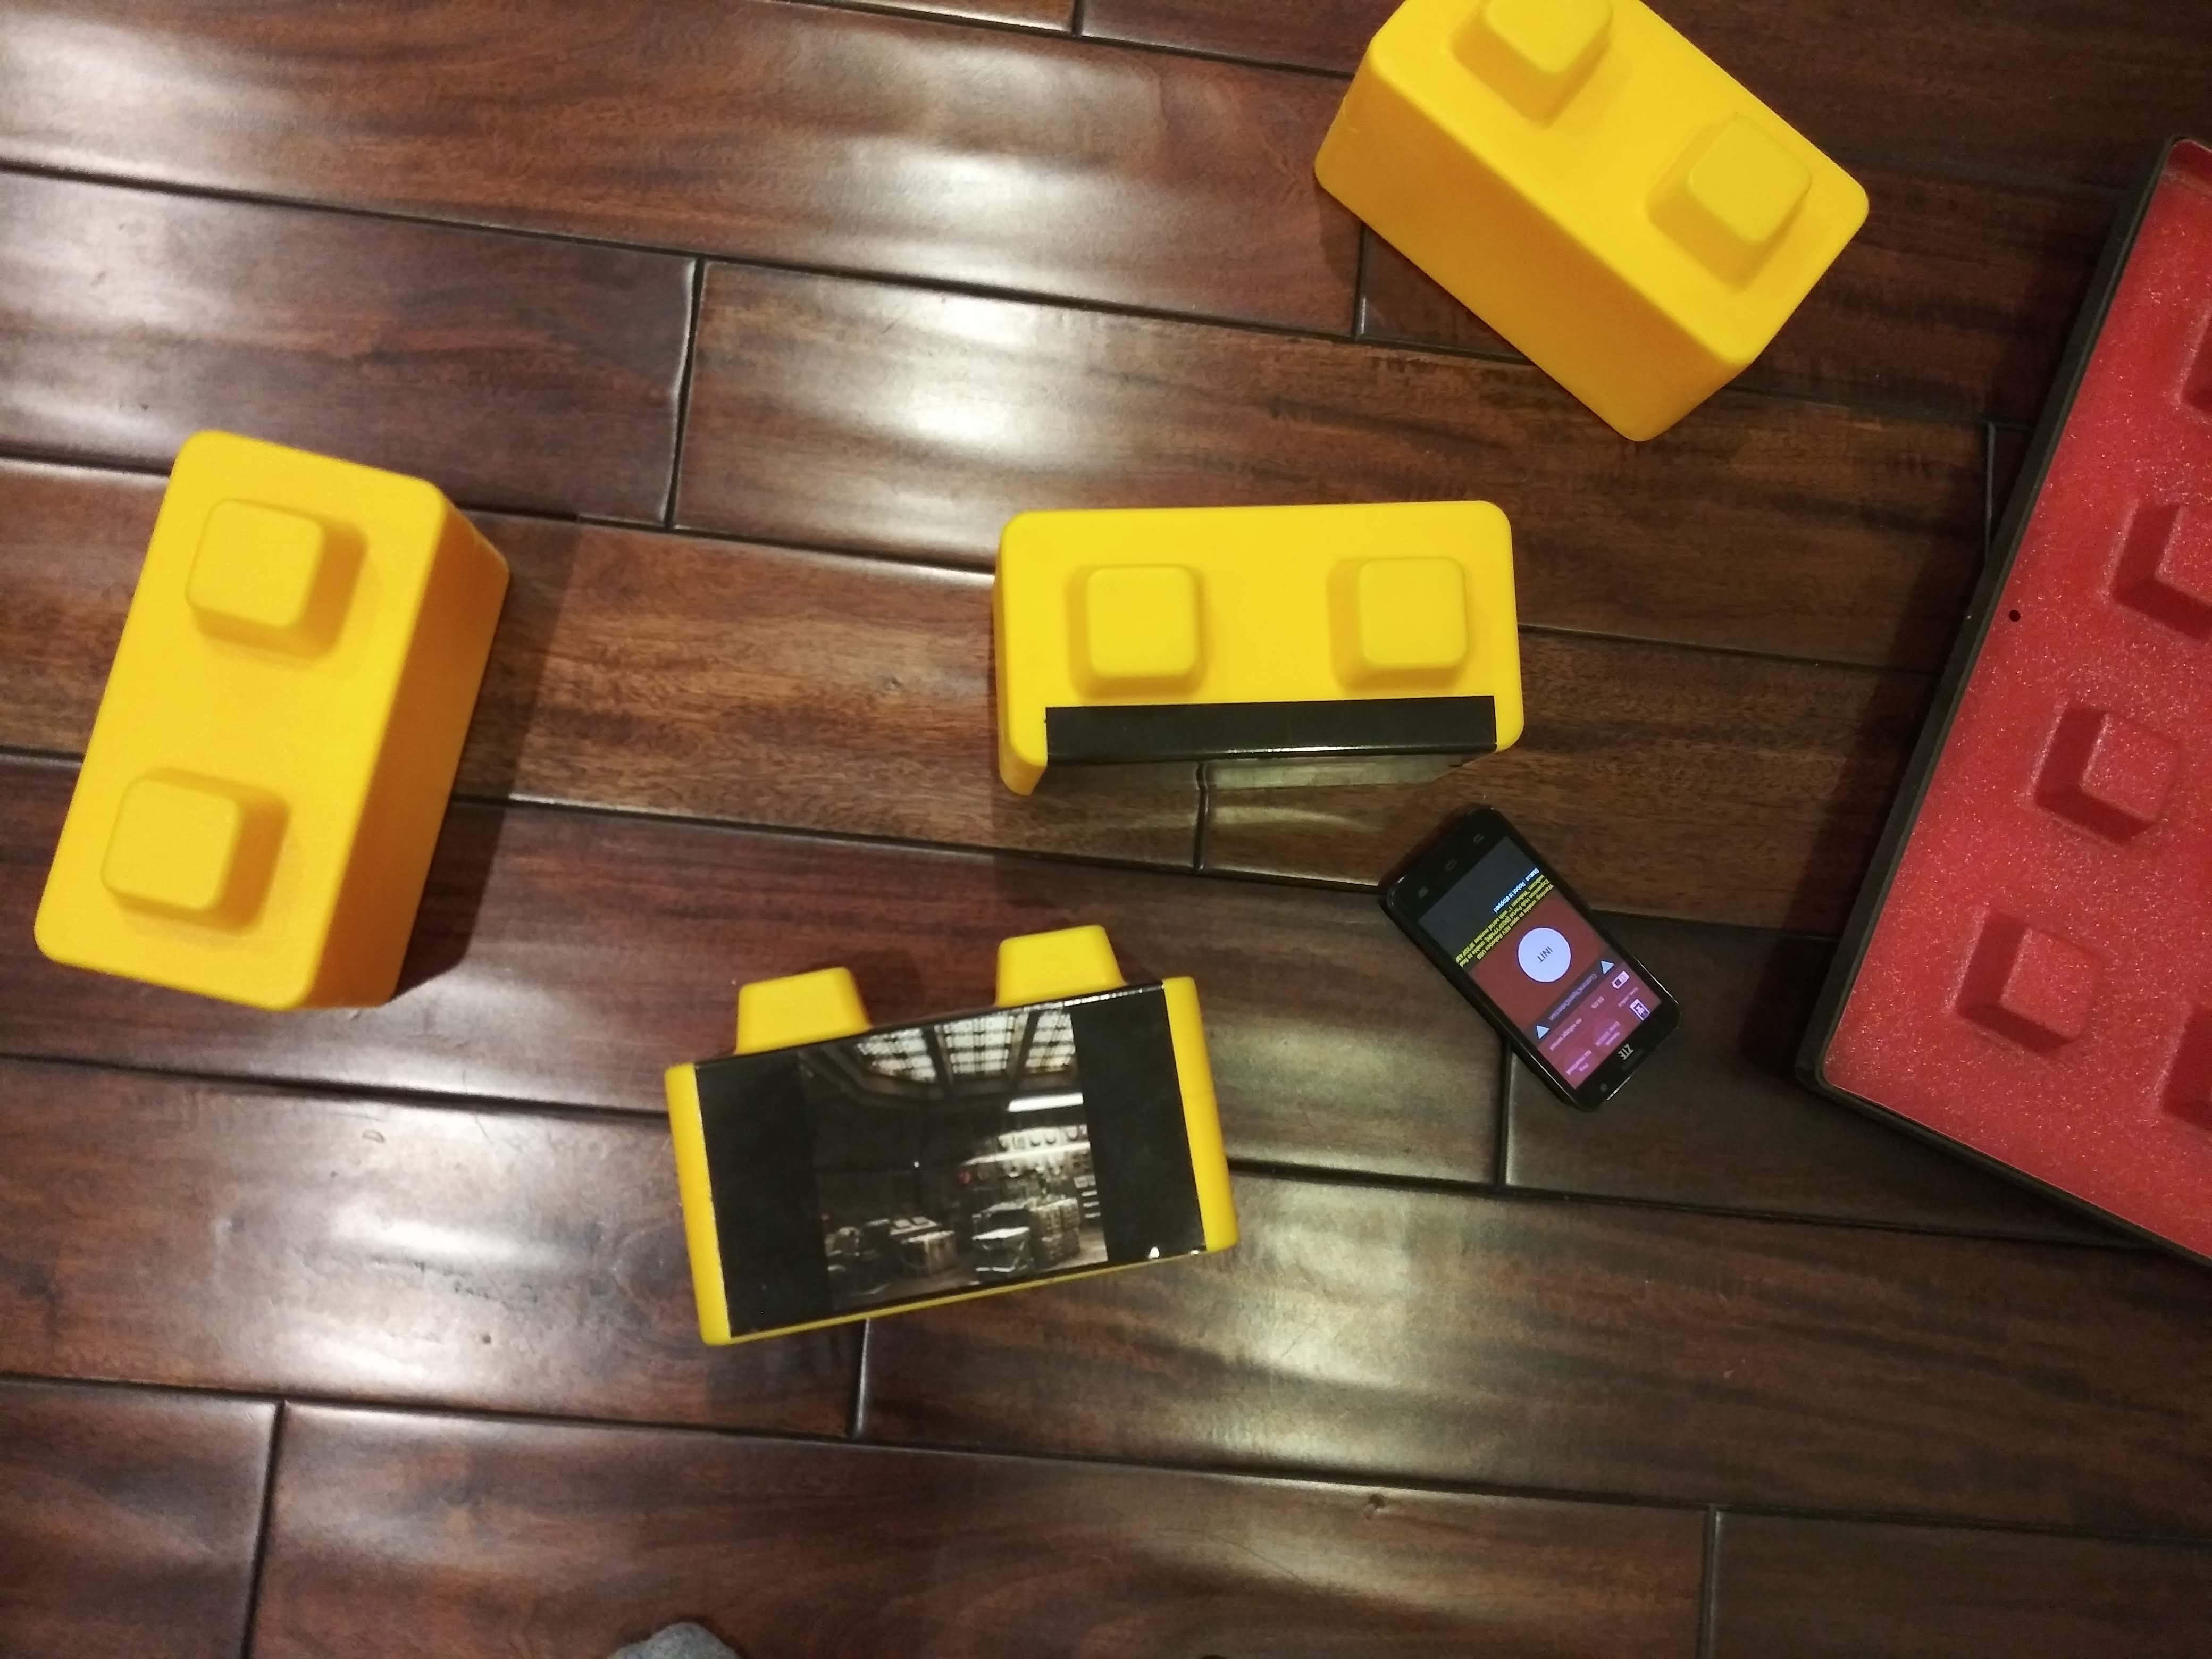skystone: (963, 502, 1571, 802), (650, 1000, 1244, 1298)
stone: (52, 427, 411, 997), (1346, 26, 1799, 355)
